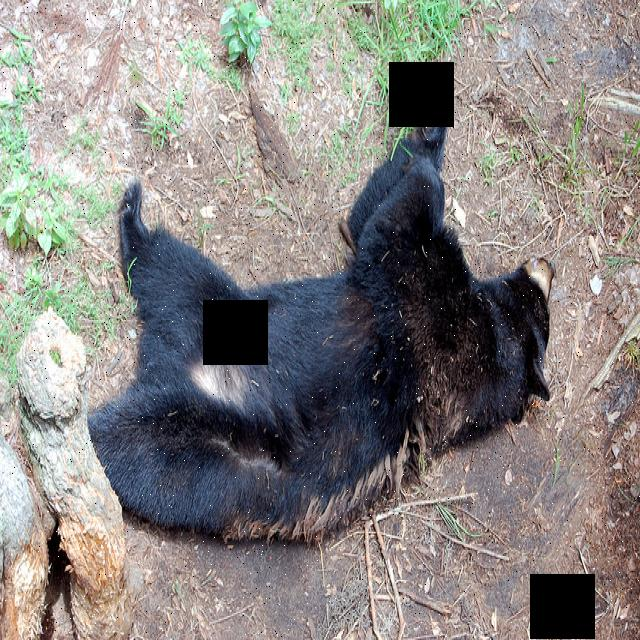Bear: (92, 81, 557, 562)
